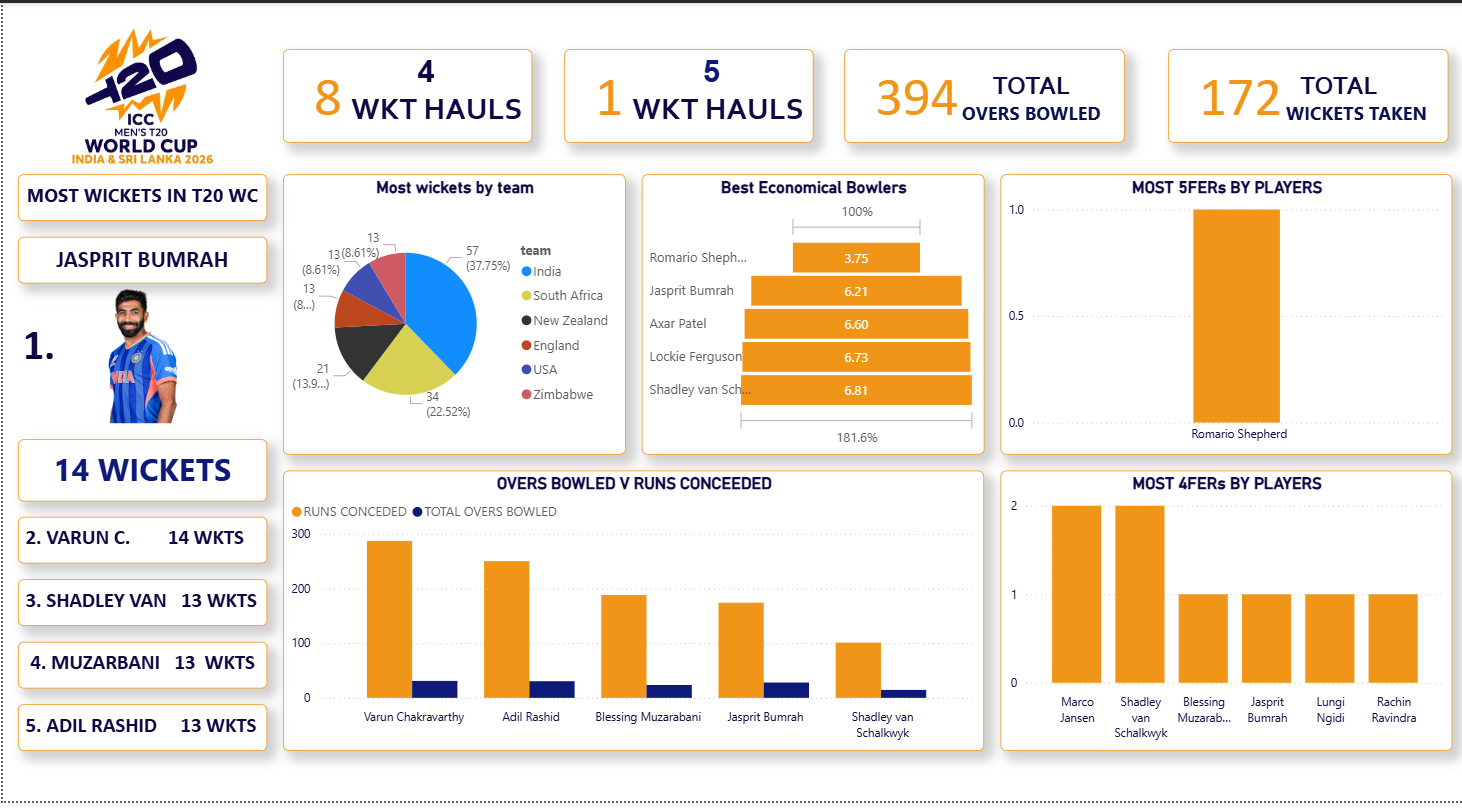

The page's visual inventory and layout, read from the dashboard file:
{"tool":"powerbi","page":{"name":"Page 3","canvas":[1500,820],"ordinal":2},"visuals":[{"type":"image","box":[16,16,256,160],"z":0},{"type":"cardVisual","fields":{"Data":["Sum(bowling_stats.four_wicket_hauls)"]},"box":[288,48,256,96],"z":0,"group":"g1"},{"type":"cardVisual","fields":{"Data":["Sum(bowling_stats.five_wicket_hauls)"]},"box":[576,48,256,96],"z":0,"group":"g2"},{"type":"group","id":"g1","title":"Group 3","box":[288,48,288,112],"z":1000},{"type":"textbox","box":[304,48,272,112],"z":2000,"group":"g1"},{"type":"group","id":"g2","title":"Group 3","box":[576,48,288,112],"z":2000},{"type":"textbox","box":[592,48,272,112],"z":2000,"group":"g2"},{"type":"group","id":"g3","title":"Group 2","box":[864,48,320,96],"z":3000},{"type":"cardVisual","fields":{"Data":["bowling_stats.Total Overs bowled"]},"box":[864,48,288,96],"z":3000,"group":"g3"},{"type":"cardVisual","fields":{"Data":["Sum(bowling_stats.wickets)"]},"box":[1196,48,288,96],"z":3000,"group":"g4"},{"type":"group","id":"g4","title":"Group 2","box":[1196,48,304,96],"z":4000},{"type":"textbox","box":[928,64,256,80],"z":5000,"group":"g3"},{"type":"textbox","box":[1244,64,256,80],"z":5000,"group":"g4"},{"type":"pieChart","title":"Most wickets by team","fields":{"Category":["bowling_stats.team"],"Y":["Sum(bowling_stats.wickets)"]},"box":[288,176,352,288],"z":5000},{"type":"funnel","title":"Best Economical Bowlers","fields":{"Category":["bowling_stats.player"],"Y":["Sum(bowling_stats.economy)"]},"box":[656,176,352,288],"z":6000},{"type":"columnChart","title":"MOST 5FERs BY PLAYERS","fields":{"Category":["bowling_stats.player"],"Y":["Sum(bowling_stats.five_wicket_hauls)"]},"box":[1024,176,464,288],"z":7000},{"type":"columnChart","title":"MOST 4FERs BY PLAYERS","fields":{"Category":["bowling_stats.player"],"Y":["Sum(bowling_stats.four_wicket_hauls)"]},"box":[1024,480,464,288],"z":8000},{"type":"clusteredColumnChart","title":"OVERS BOWLED V RUNS CONCEEDED ","fields":{"Category":["bowling_stats.player"],"Y":["Sum(bowling_stats.runs_conceded)","Sum(bowling_stats.overs)"]},"box":[288,480,720,288],"z":9000},{"type":"textbox","box":[16,176,256,48],"z":10000},{"type":"textbox","box":[16,240,256,48],"z":11000},{"type":"textbox","box":[16,320,256,64],"z":12000},{"type":"image","box":[16,288,256,144],"z":13000},{"type":"textbox","box":[16,448,256,64],"z":14000},{"type":"textbox","box":[16,528,256,48],"z":15000},{"type":"textbox","box":[16,592,256,48],"z":16000},{"type":"textbox","box":[16,656,256,48],"z":17000},{"type":"textbox","box":[16,720,256,48],"z":18000}]}

Visuals, with their boxes in screenshot pixels (x1, y1, x2, y2), scaled from the page's 1500x820 canvas onto the 1462x809 screenshot:
image: box(16, 16, 265, 174)
cardVisual - Sum(bowling_stats.four_wicket_hauls): box(281, 47, 530, 142)
cardVisual - Sum(bowling_stats.five_wicket_hauls): box(561, 47, 811, 142)
"Group 3" group: box(281, 47, 561, 158)
textbox: box(296, 47, 561, 158)
"Group 3" group: box(561, 47, 842, 158)
textbox: box(577, 47, 842, 158)
"Group 2" group: box(842, 47, 1154, 142)
cardVisual - bowling_stats.Total Overs bowled: box(842, 47, 1123, 142)
cardVisual - Sum(bowling_stats.wickets): box(1166, 47, 1446, 142)
"Group 2" group: box(1166, 47, 1461, 142)
textbox: box(904, 63, 1154, 142)
textbox: box(1212, 63, 1461, 142)
"Most wickets by team" pieChart: box(281, 174, 624, 458)
"Best Economical Bowlers" funnel: box(639, 174, 982, 458)
"MOST 5FERs BY PLAYERS" columnChart: box(998, 174, 1450, 458)
"MOST 4FERs BY PLAYERS" columnChart: box(998, 474, 1450, 758)
"OVERS BOWLED V RUNS CONCEEDED " clusteredColumnChart: box(281, 474, 982, 758)
textbox: box(16, 174, 265, 221)
textbox: box(16, 237, 265, 284)
textbox: box(16, 316, 265, 379)
image: box(16, 284, 265, 426)
textbox: box(16, 442, 265, 505)
textbox: box(16, 521, 265, 568)
textbox: box(16, 584, 265, 631)
textbox: box(16, 647, 265, 695)
textbox: box(16, 710, 265, 758)
